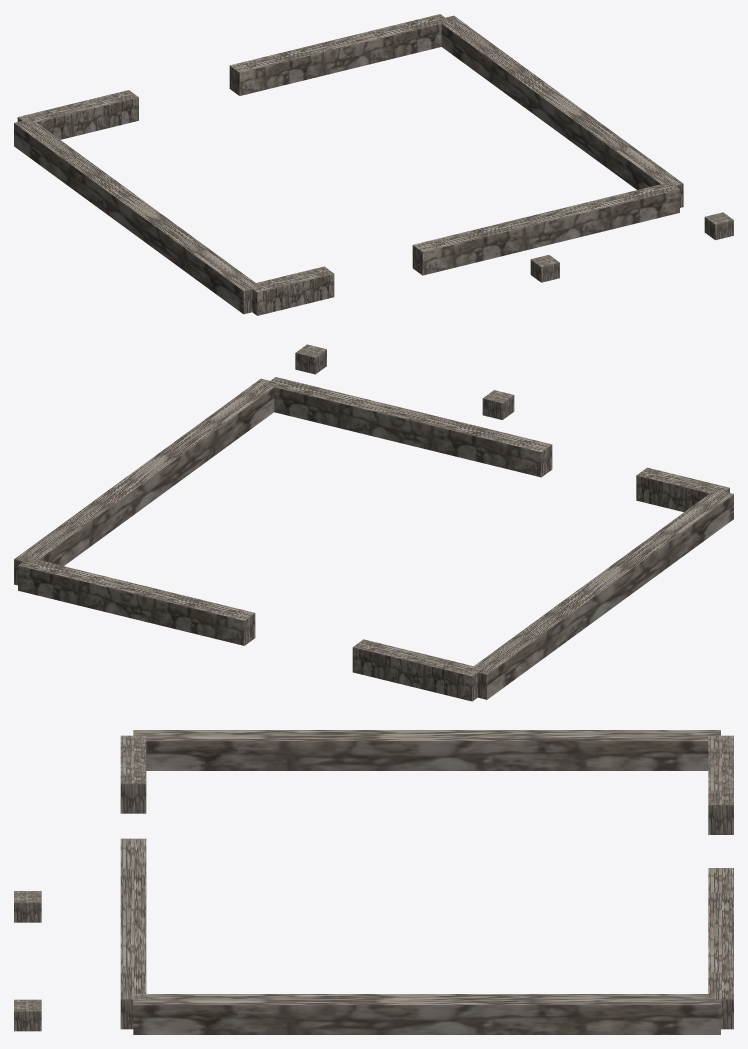
Rendered from BW_Merchant01_Foundation.fbx.
3 renders of one model, top to bottom at view 1: azimuth 30°, elevation 25°; view 2: azimuth 150°, elevation 25°; view 3: azimuth 270°, elevation 25°, orthographic. The views are drawn at different scales.
Visible parts, largest first — view 1: BW_Merchant01_Foundation; view 2: BW_Merchant01_Foundation; view 3: BW_Merchant01_Foundation.
Part boxes in pixels (bbox=[...]): BW_Merchant01_Foundation: bbox=[14, 14, 733, 315]; BW_Merchant01_Foundation: bbox=[14, 344, 733, 701]; BW_Merchant01_Foundation: bbox=[14, 730, 733, 1034].
Bounding box in the file's own units: 7.14 × 0.36 × 7.84.
